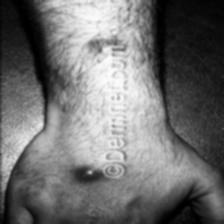Toxin: (87, 33, 119, 53), (75, 164, 103, 184)
